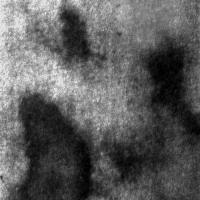patches: (16, 93, 92, 200), (147, 41, 198, 133), (97, 0, 191, 47), (153, 130, 200, 200), (111, 127, 161, 179), (56, 6, 92, 62)
